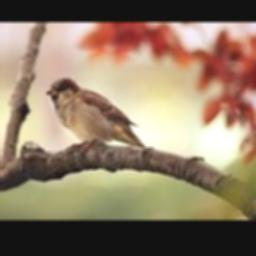Sparrow: (45, 77, 146, 148)
